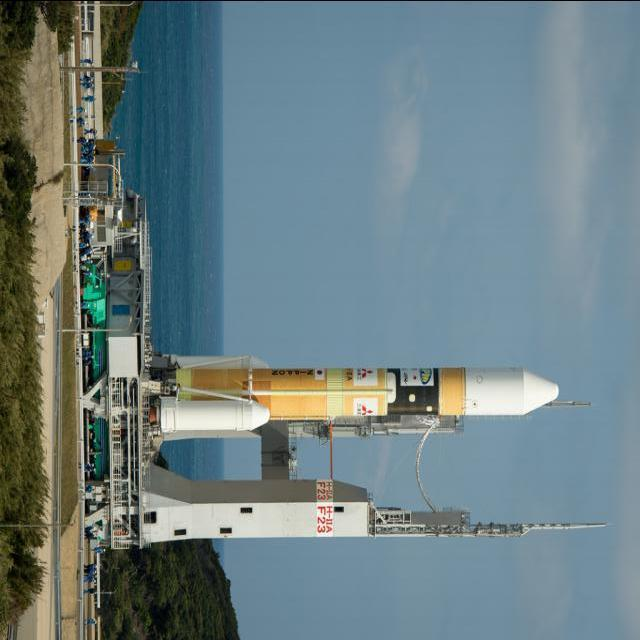missile: (155, 364, 565, 425)
